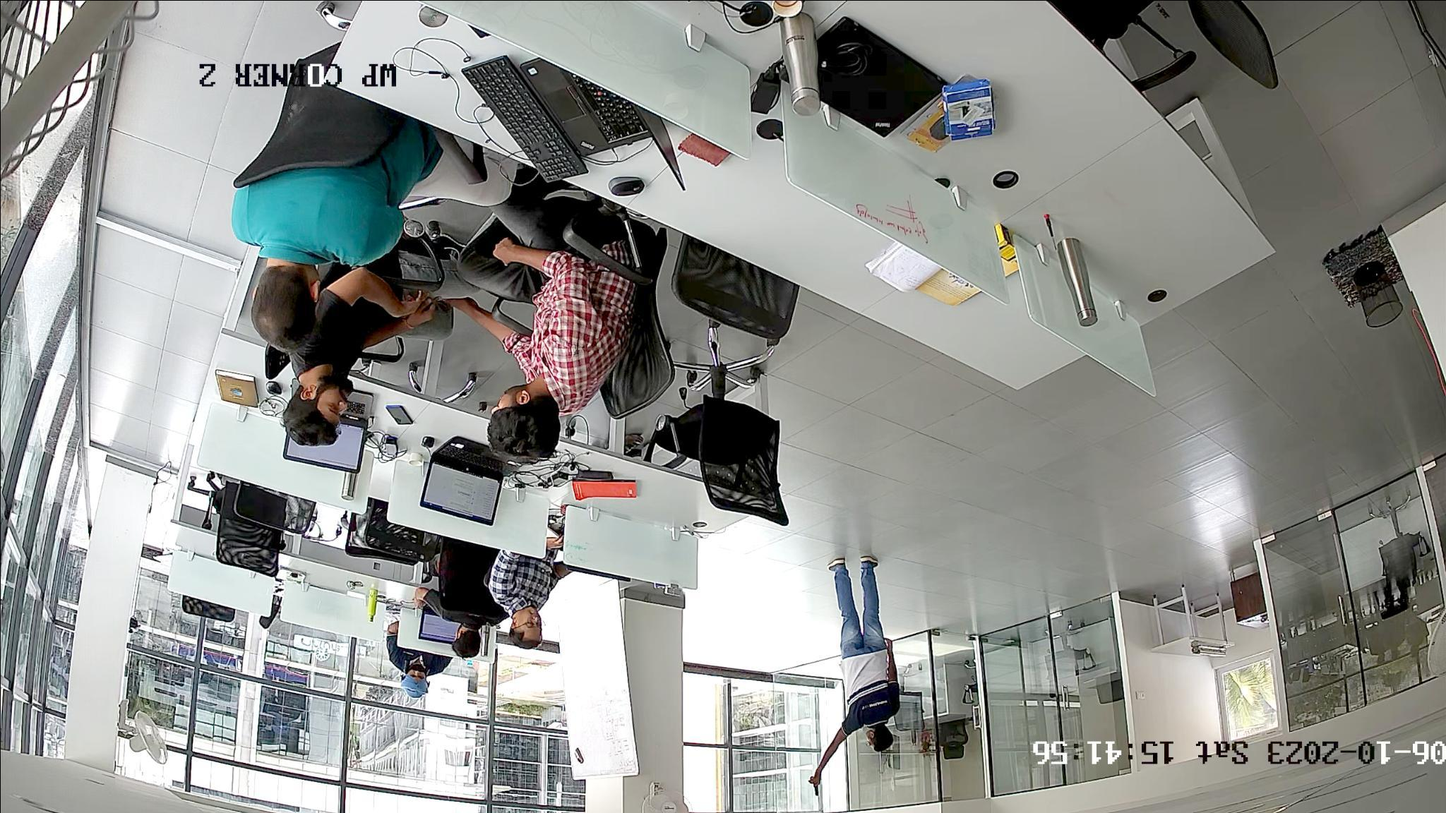gun: (808, 777, 818, 796)
